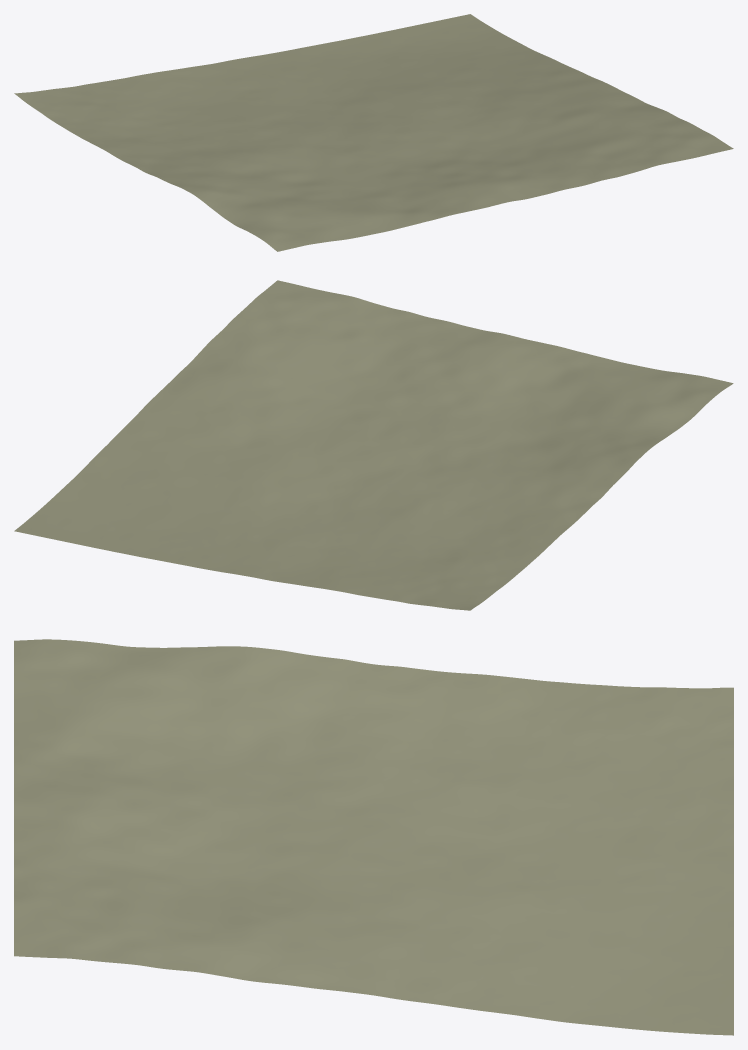
Rendered from SM_VB_CityTerrain_11_6.fbx.
The picture shows the model from 3 angles, top to bottom: view 1: azimuth 30°, elevation 25°; view 2: azimuth 150°, elevation 25°; view 3: azimuth 270°, elevation 25°; orthographic projection. The views are drawn at different scales.
Parts seen in each view (by area): view 1: SM_VB_CityTerrain_11_6; view 2: SM_VB_CityTerrain_11_6; view 3: SM_VB_CityTerrain_11_6.
Part boxes in pixels (x1=…): SM_VB_CityTerrain_11_6: x1=14, y1=14, x2=733, y2=251; SM_VB_CityTerrain_11_6: x1=14, y1=280, x2=733, y2=610; SM_VB_CityTerrain_11_6: x1=14, y1=639, x2=733, y2=1035.
Bounding box in the file's own units: 600 × 84.41 × 600.
